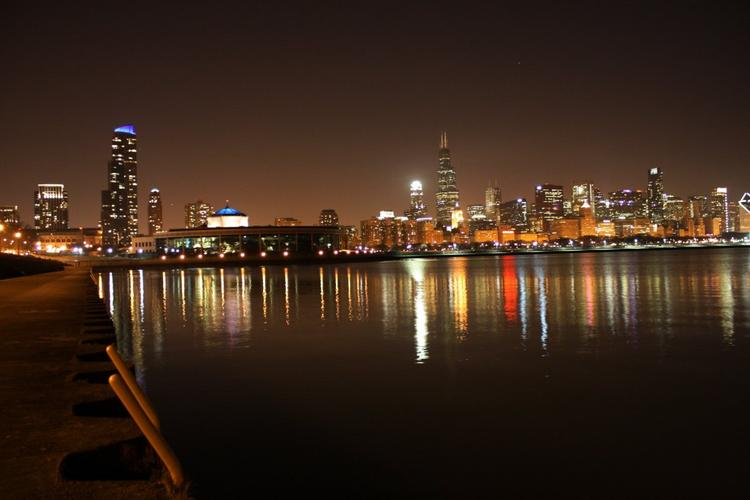buildings: (90, 113, 165, 251), (416, 119, 481, 274), (632, 158, 674, 232), (34, 171, 73, 250)
